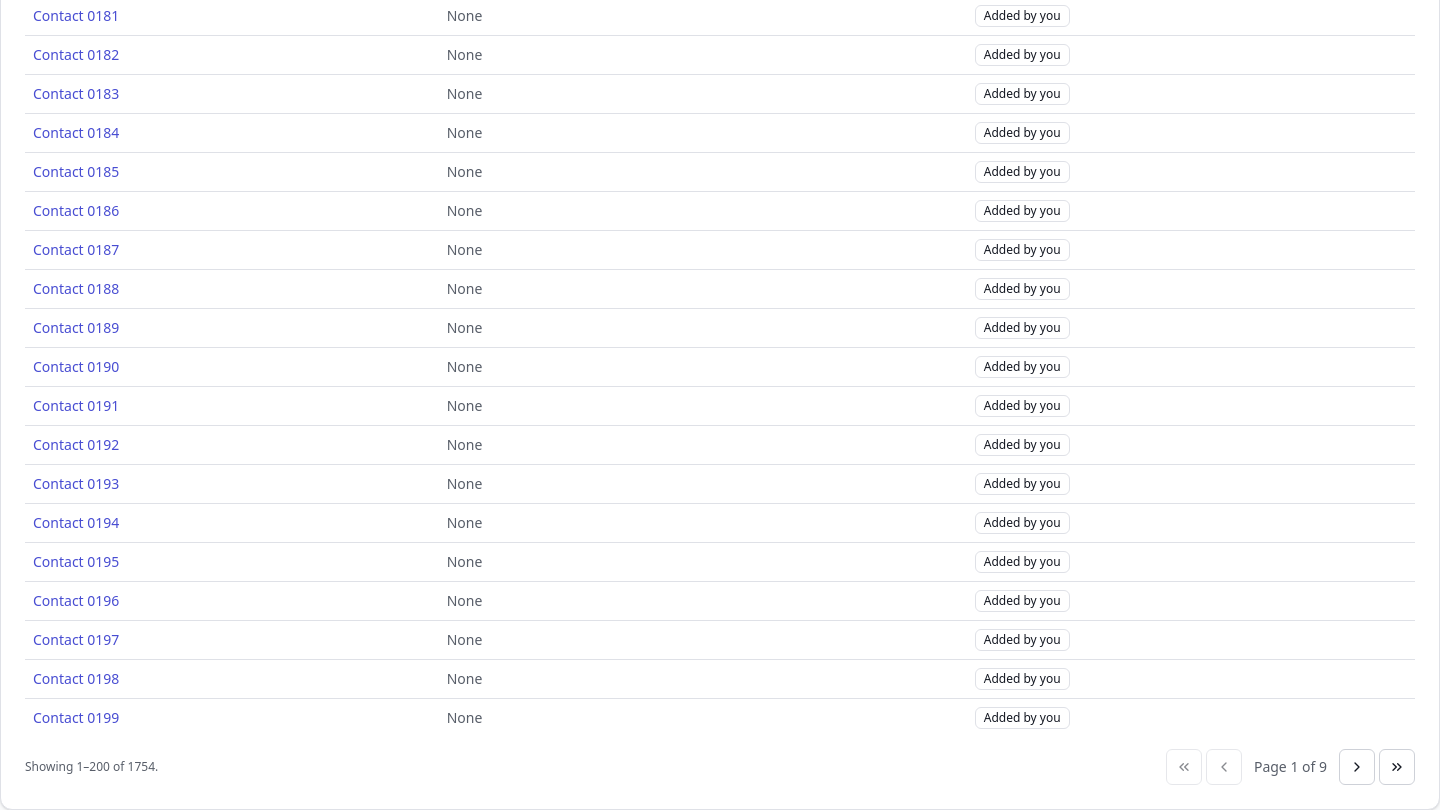
Test: ContactList pagination (issue #207) › jumps to the last page, which holds the remainder, not a full 200
The image size is (1440, 810).
(page scrolled)
Expected: the text "Showing 1–200 of 1754." is shown, [25,758,158,774]
Click the button named "Last page" at x=1397, y=766, box [1379,748,1415,784]
(page scrolled)
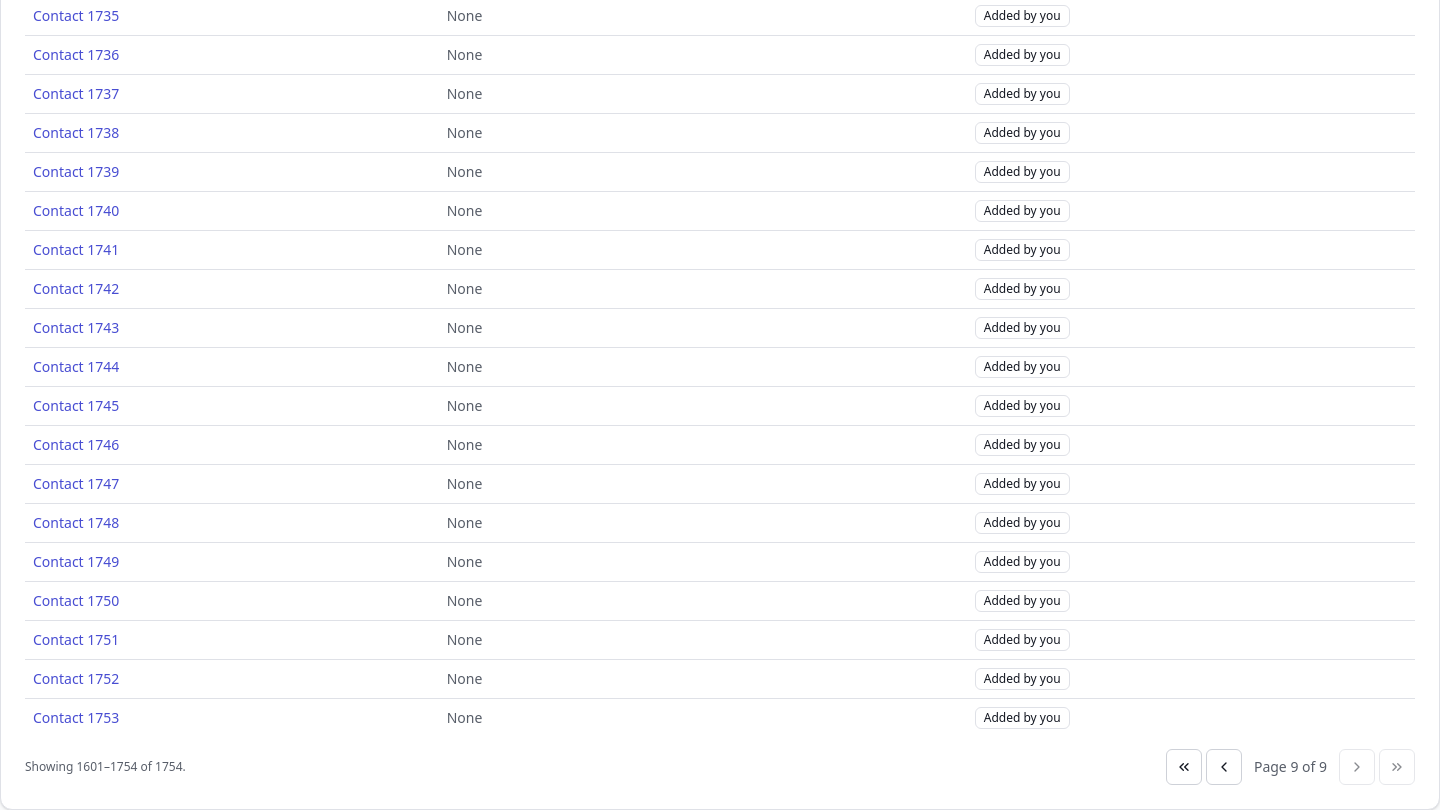
Expected: the text "Showing 1601–1754 of 1754." is shown, [25,758,186,774]
Expected: the text "Page 9 of 9" is shown, [1254,756,1327,776]
Expected: the button named "Last page" is disabled, [1379,748,1415,784]
Click the button named "First page" at x=1184, y=766, box [1166,748,1202,784]
(page scrolled)
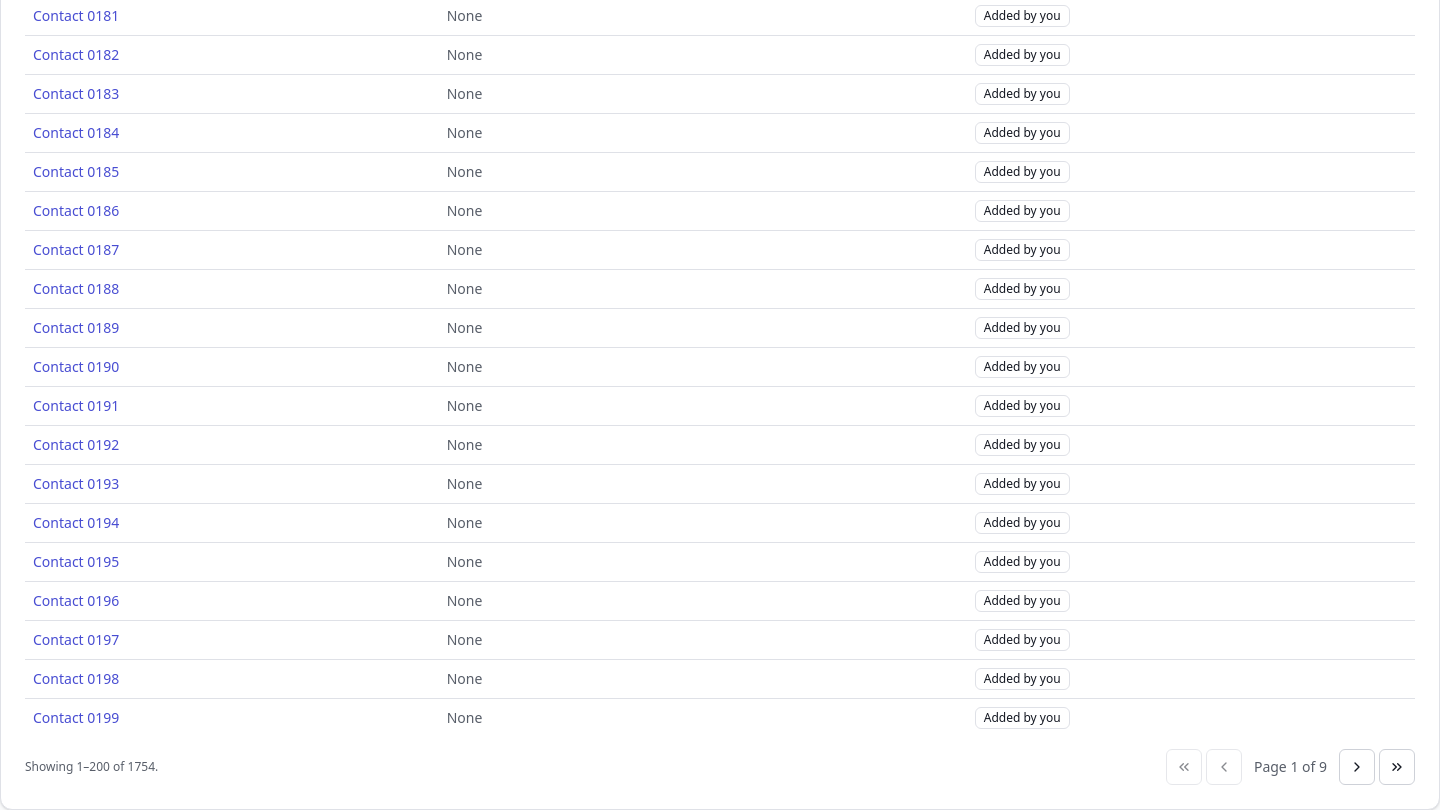
Expected: the button named "Previous page" is disabled, [1206,748,1242,784]
Expected: the text "Showing 1–200 of 1754." is shown, [25,758,158,774]
Expected: the button named "First page" is disabled, [1166,748,1202,784]
